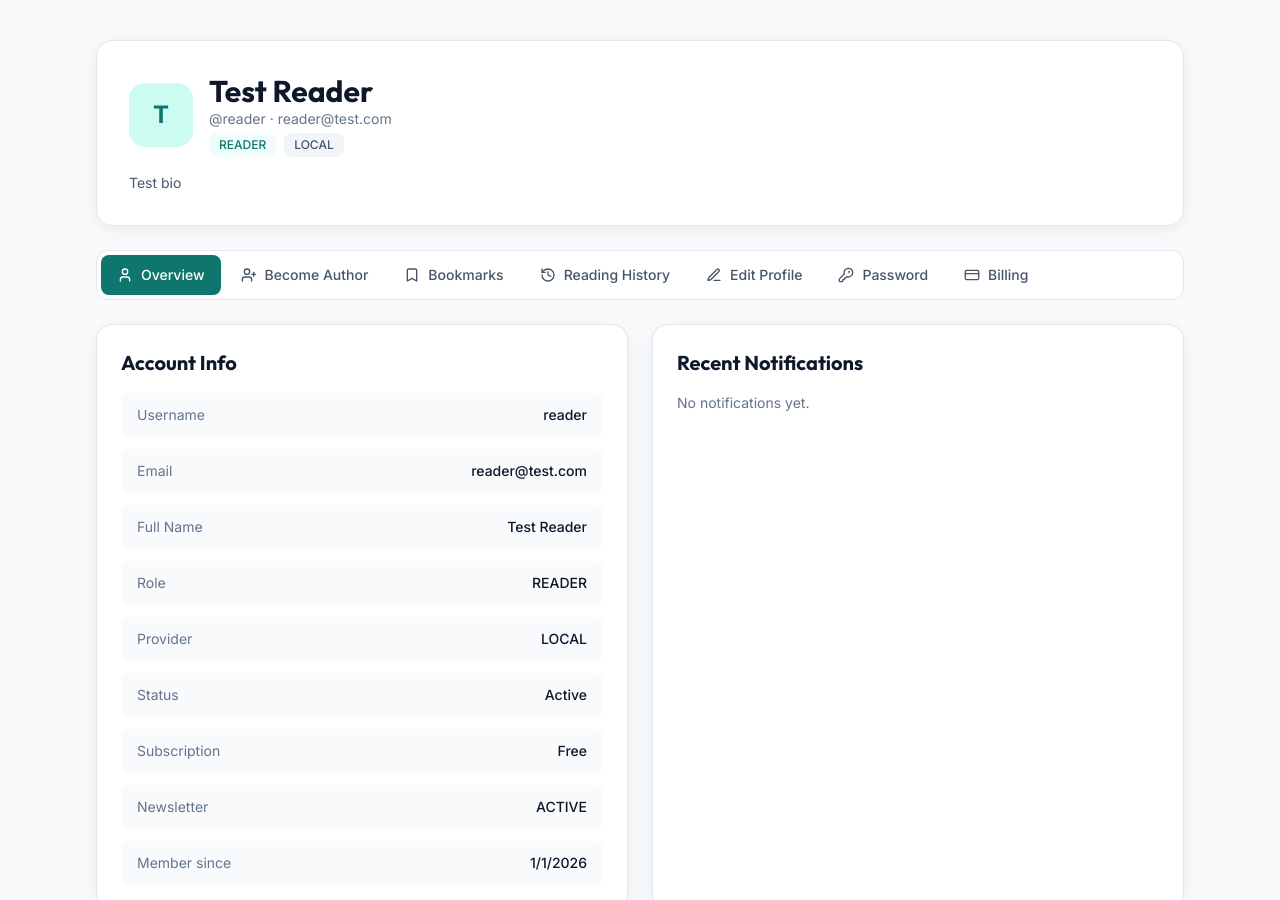
Test: ProfilePage › switches to edit profile tab
This screenshot has width=1280, height=900.
Click the button "Edit Profile".
click(754, 275)  # box left=690, top=255, right=818, bottom=295
(page scrolled)
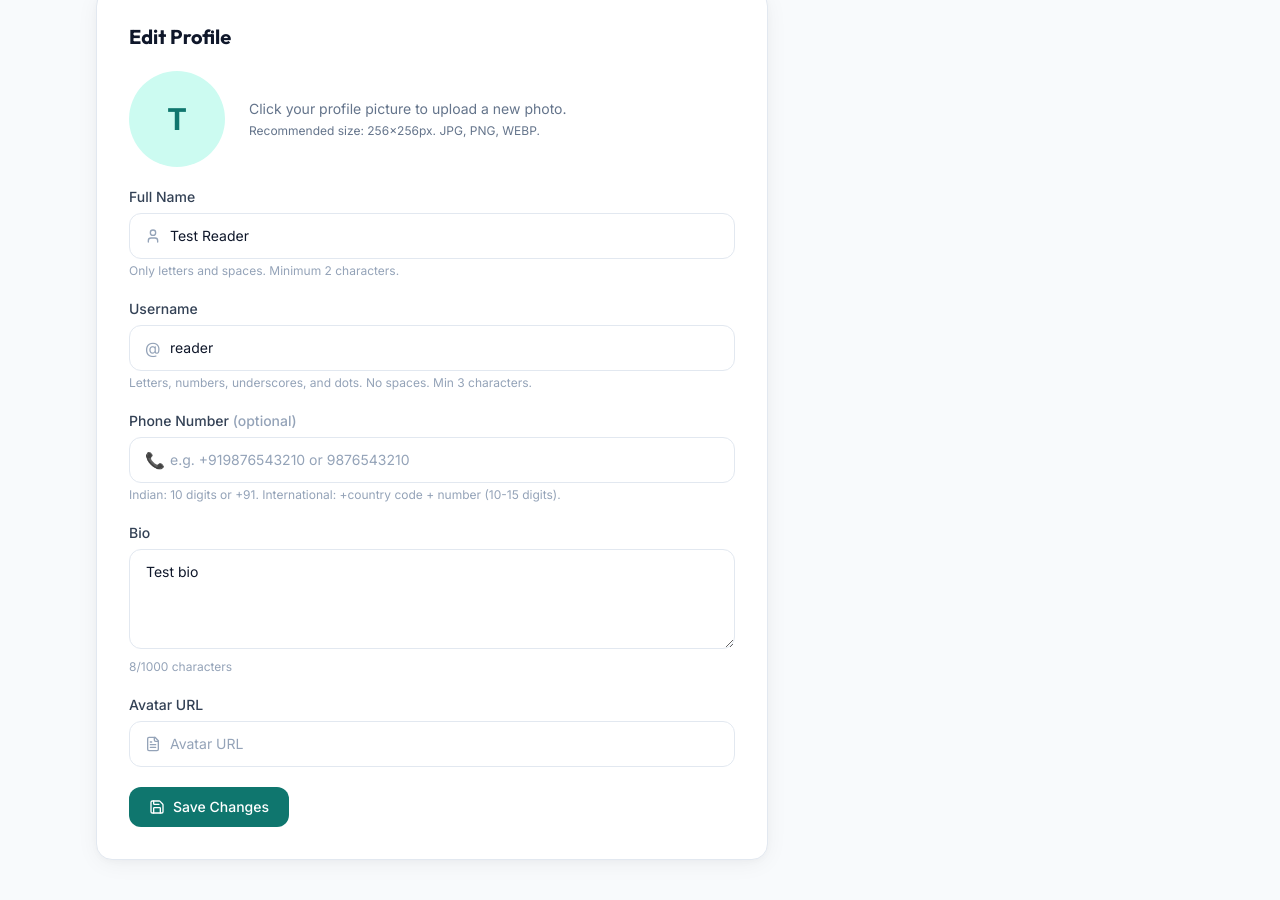
Result: the field with placeholder "Full name" below "Full Name" is shown at left=129, top=213, right=735, bottom=259
Result: the field with placeholder "Username" below "Username" is shown at left=129, top=325, right=735, bottom=371
Result: the text box with placeholder "Bio (about you)" is shown at left=129, top=549, right=735, bottom=649
